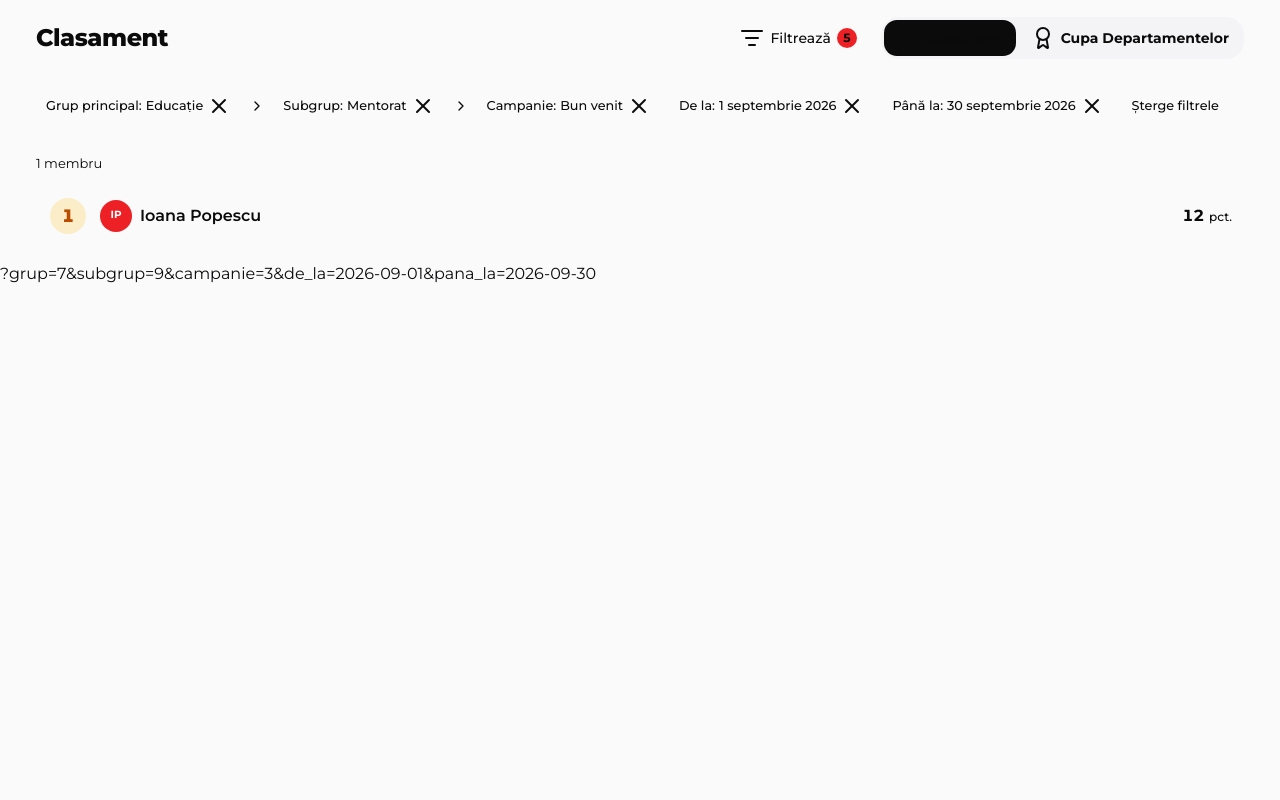
Test case: restores all four levels from the URL and sends the midnight bounds
Click the button "Filtrează 5".
click(799, 38)  # box [724,16,873,60]
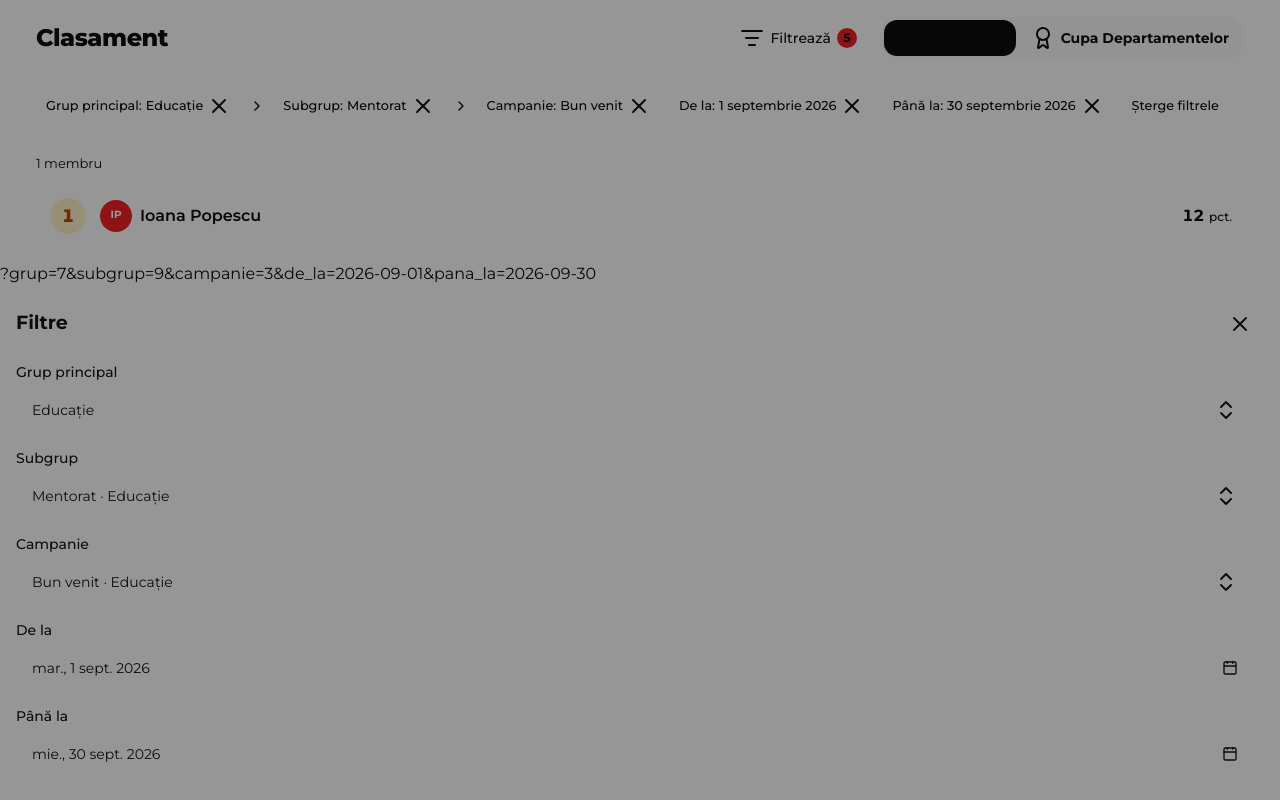
Check: the dropdown named "Grup principal" reads "Educație", box [16,388,1254,432]
Check: the dropdown named "Subgrup" shows "Mentorat", box [16,474,1254,518]
Check: the dropdown named "Campanie" shows "Bun venit", box [16,560,1254,604]
